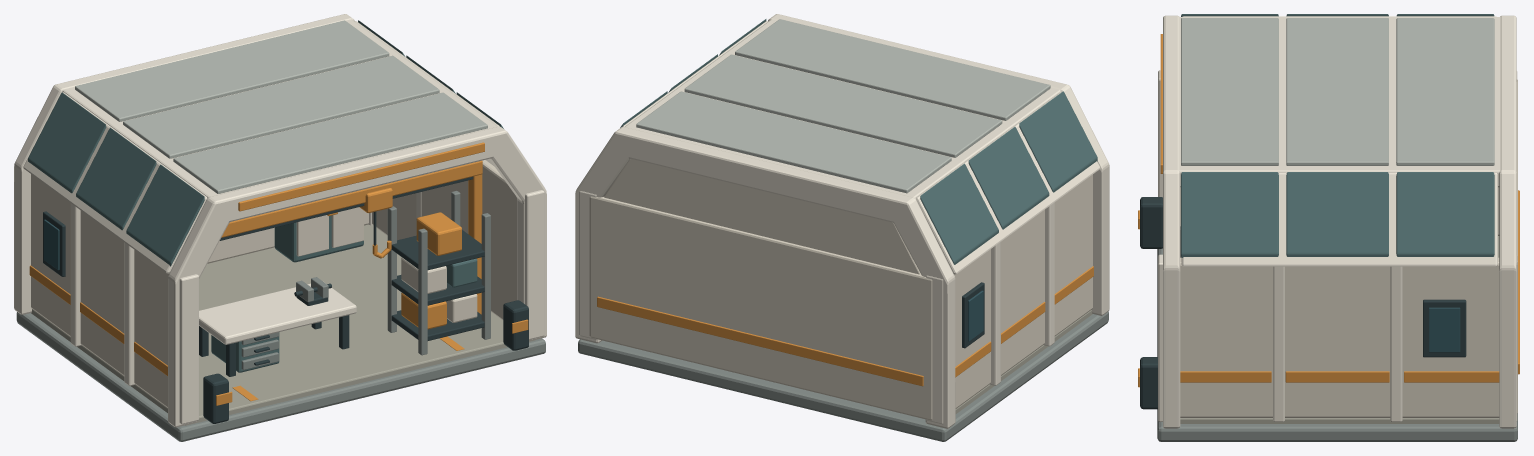
The model's file is workshop_01.glb.
3 renders of one model, left to right at view 1: azimuth 30°, elevation 25°; view 2: azimuth 150°, elevation 25°; view 3: azimuth 270°, elevation 25°, orthographic. The views are drawn at different scales.
Parts seen in each view (by area): view 1: workshop_01; view 2: workshop_01; view 3: workshop_01.
Boxes of the visible parts, x1=… form: workshop_01: x1=14, y1=14, x2=546, y2=441; workshop_01: x1=575, y1=14, x2=1109, y2=441; workshop_01: x1=1138, y1=14, x2=1519, y2=441.
Size of the model in its own units: 7.04 by 4.22 by 5.72.
